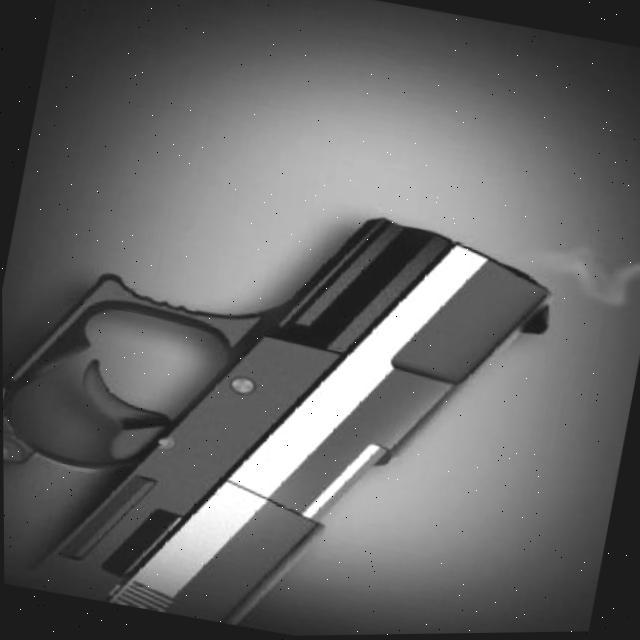gun: (1, 154, 579, 640)
